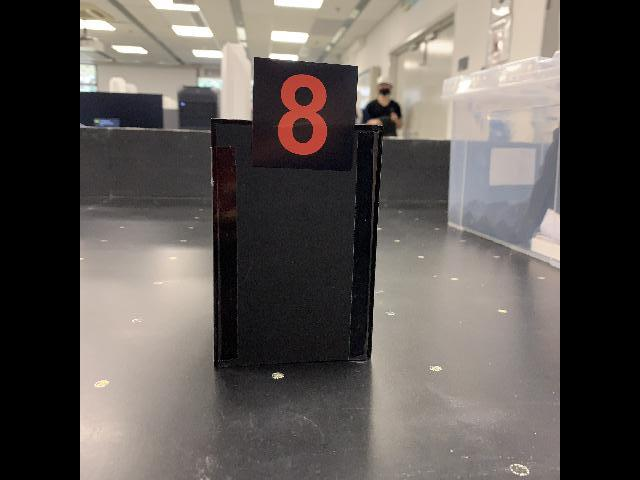eight: (250, 56, 359, 174)
